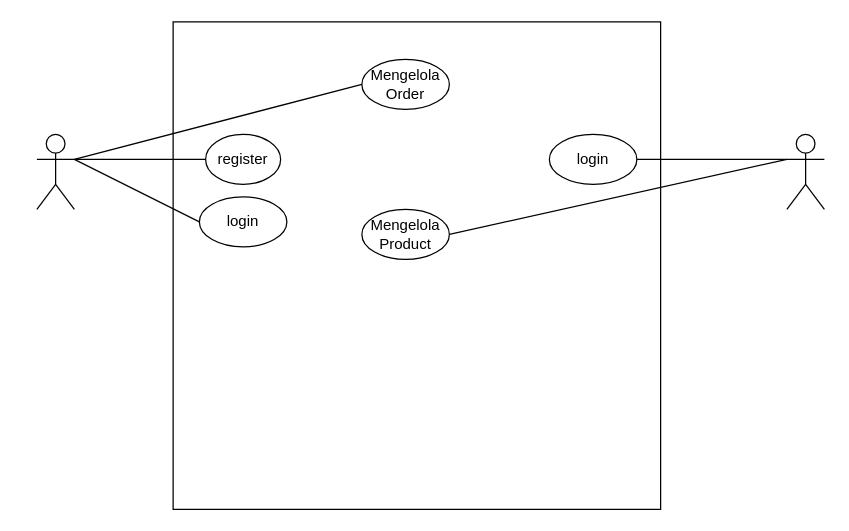
The diagram is 849 pixels wide and 531 high, and some of its shapes have lost their labels. Each missing label, with the centre of its shape:
"Admin" goes at (x=805, y=171).
"Pengguna" goes at (x=55, y=171).
